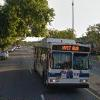Bus: (30, 36, 94, 90)
